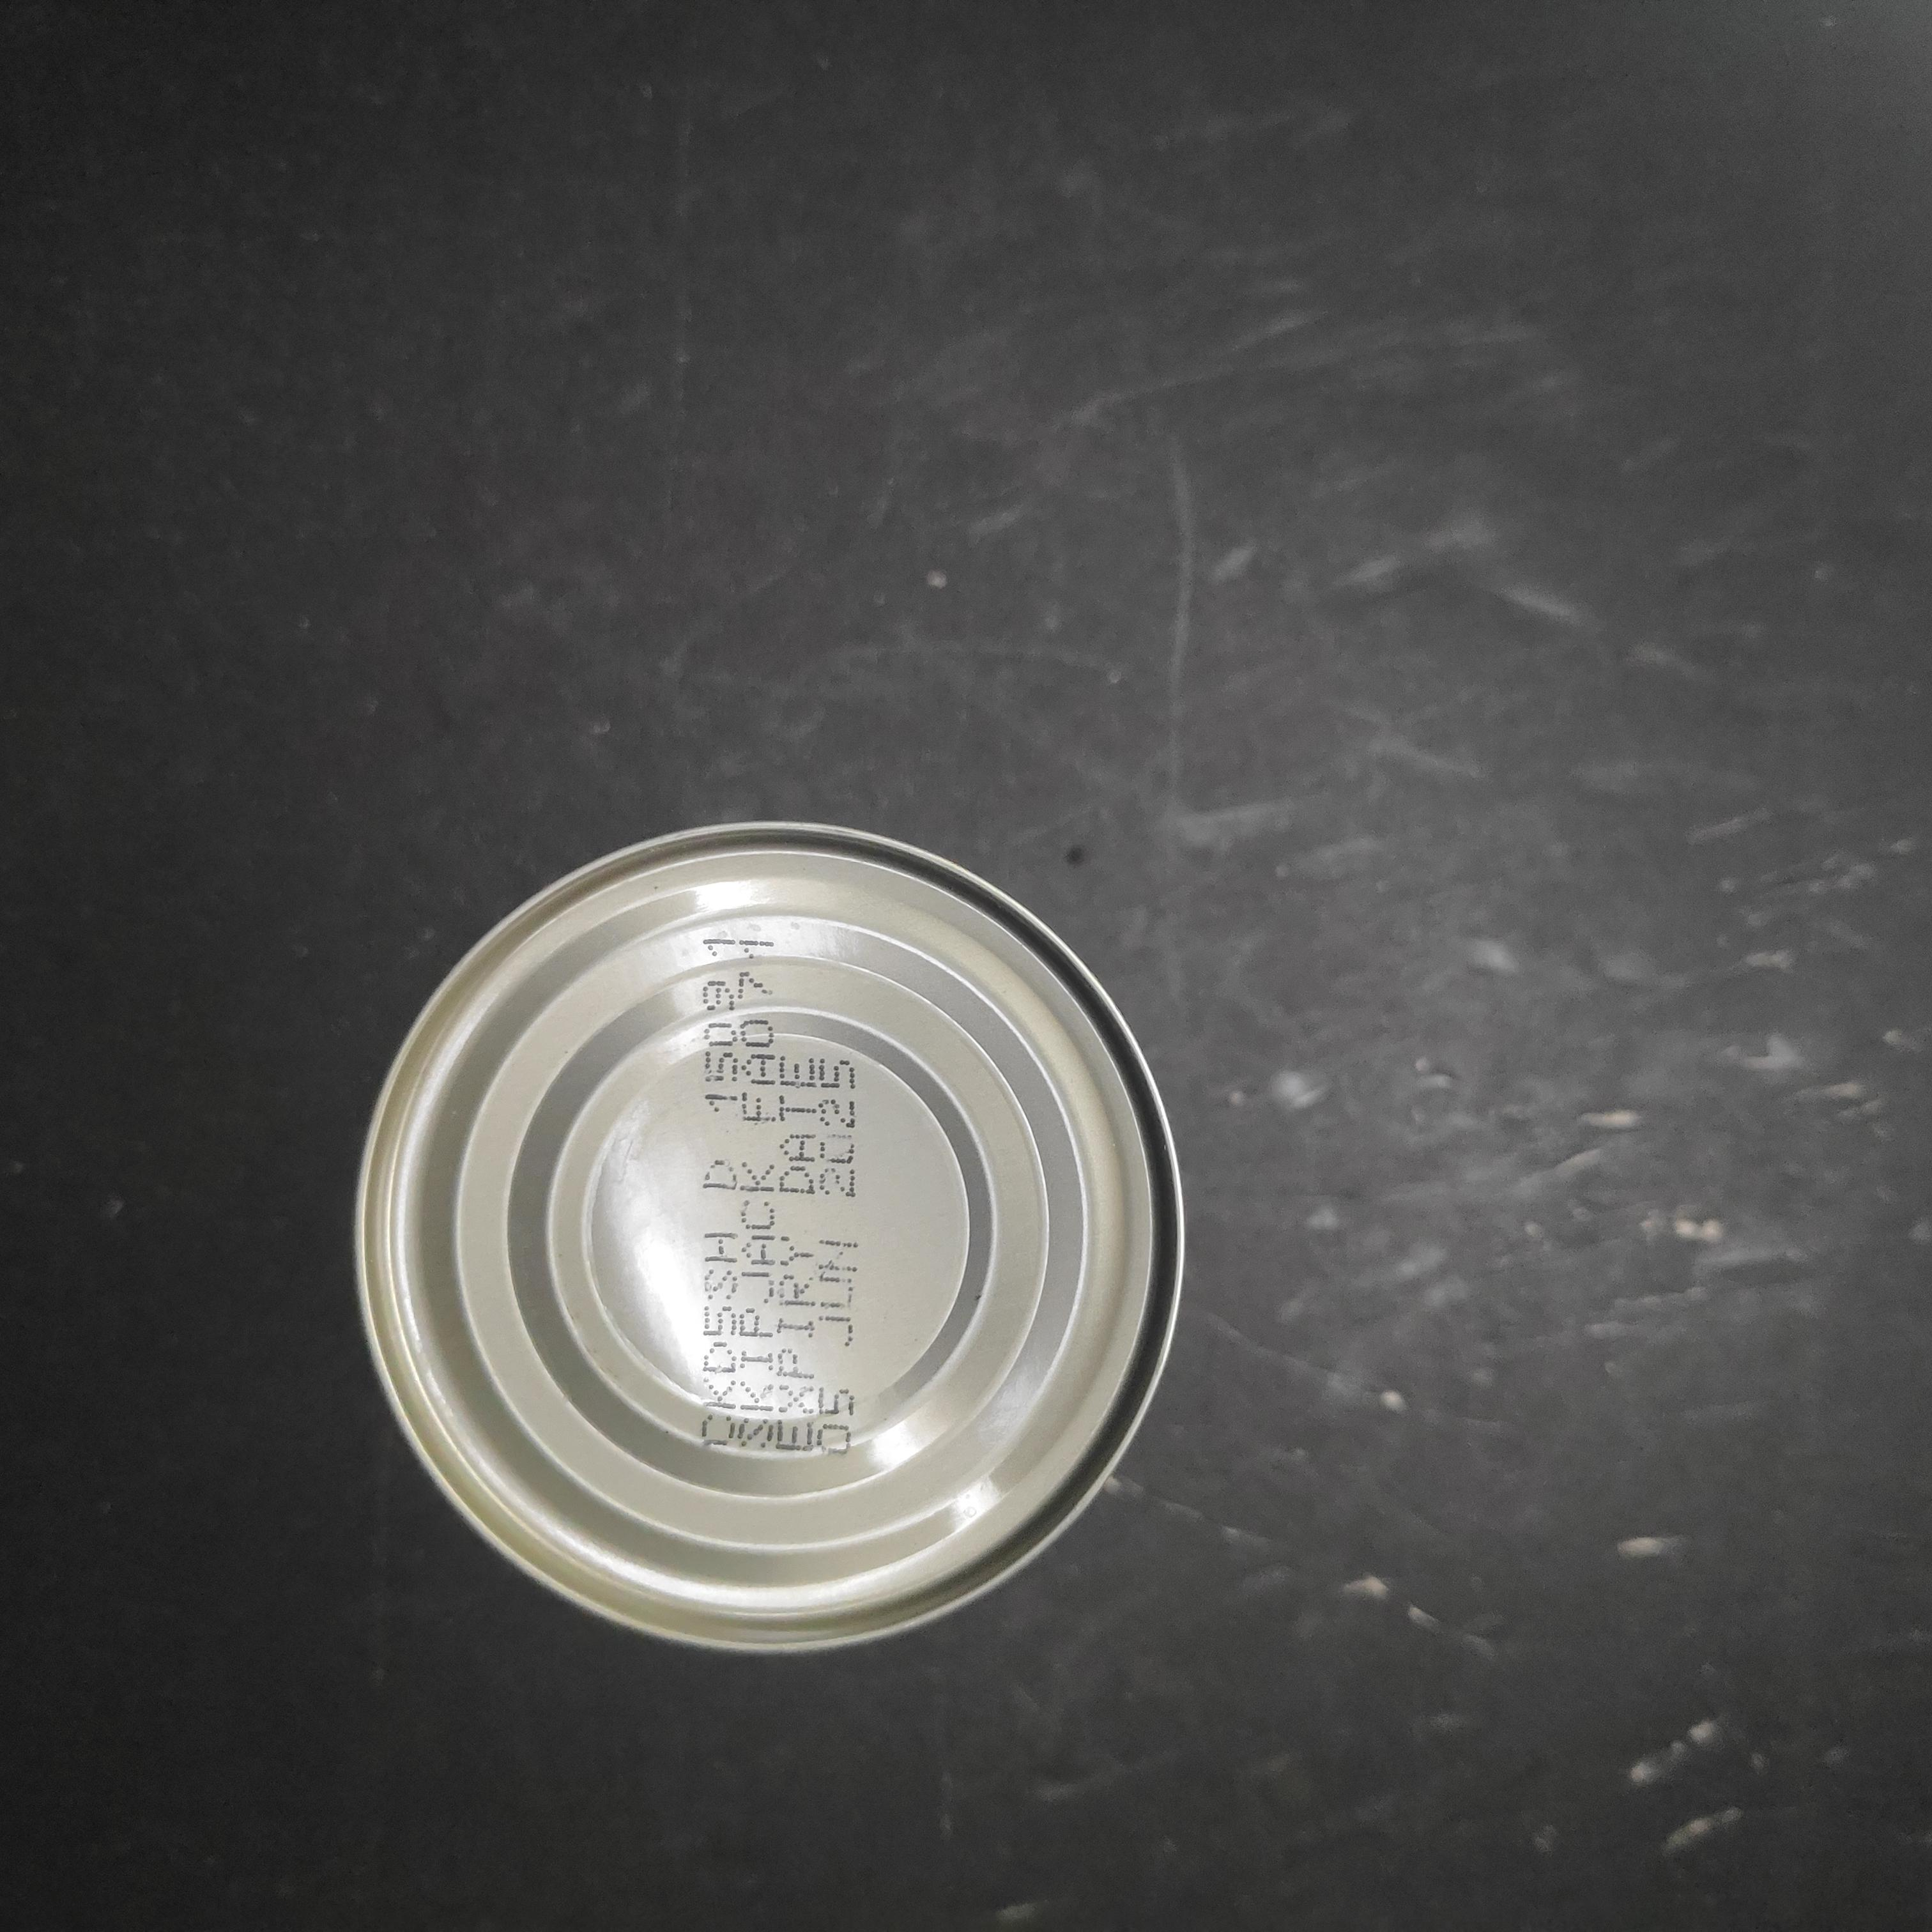No defect: (724, 257, 1594, 1131)
